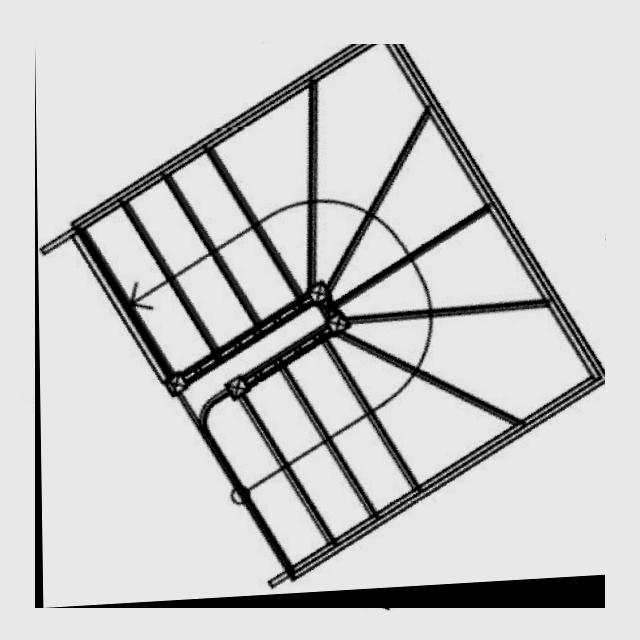stair: (35, 44, 605, 608)
